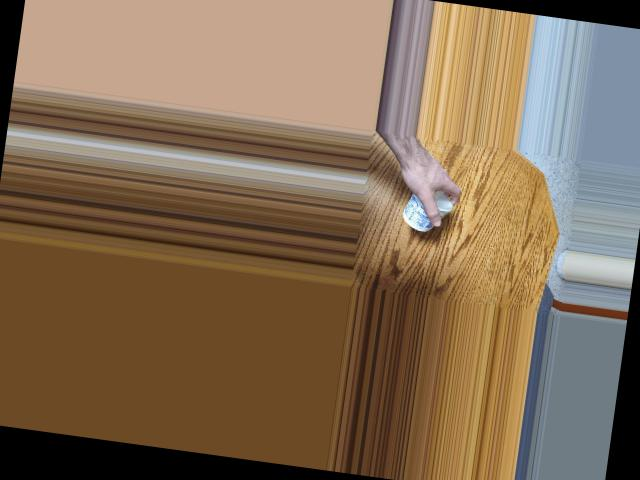cotage: (395, 186, 456, 236)
